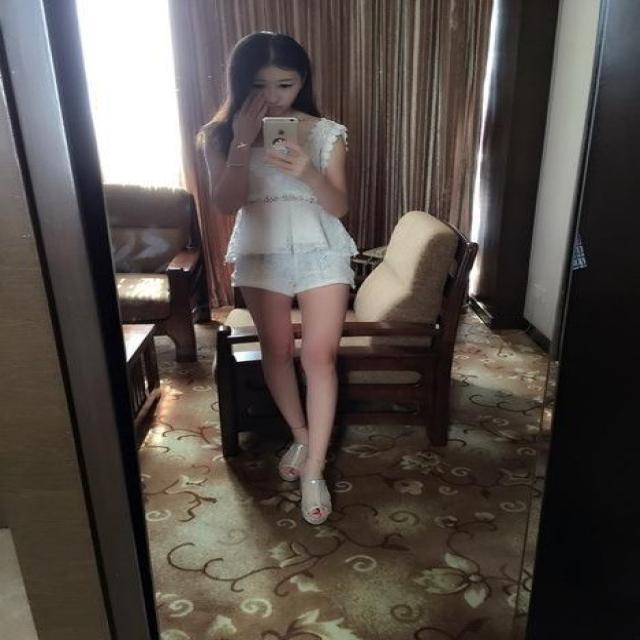shorts: (234, 226, 356, 297)
vest: (219, 119, 361, 264)
